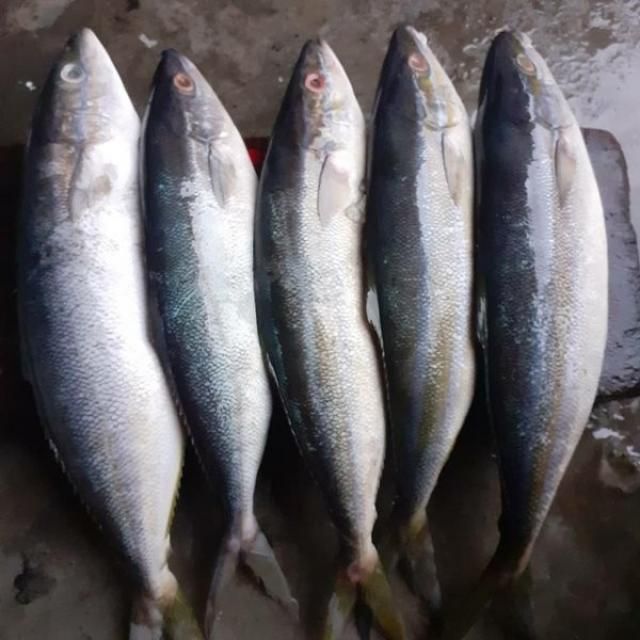salmon: (10, 26, 192, 640), (248, 17, 408, 640), (132, 27, 290, 640), (460, 24, 614, 640), (364, 15, 478, 638)
